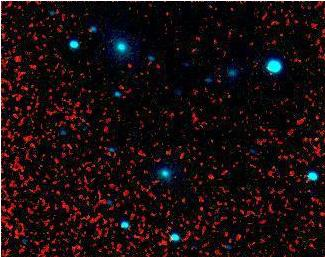star: (114, 49, 144, 79)
